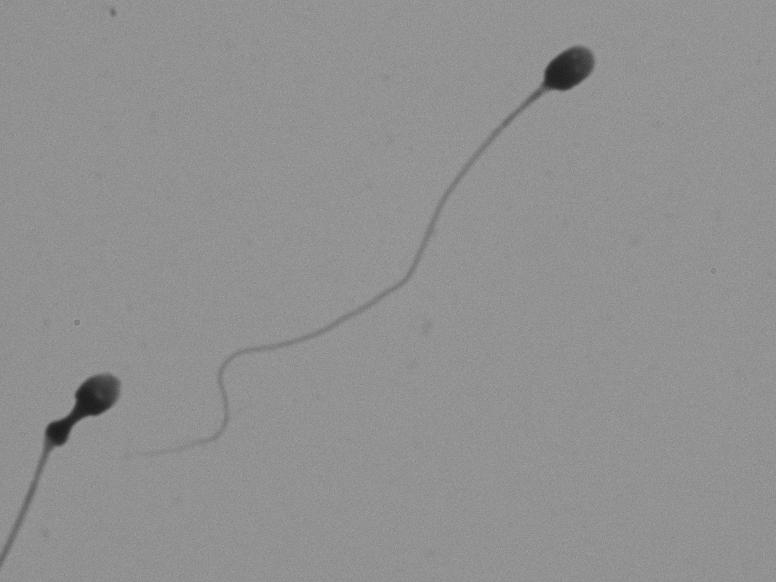Abnormal: (26, 298, 137, 543)
Normal: (151, 26, 618, 498)
